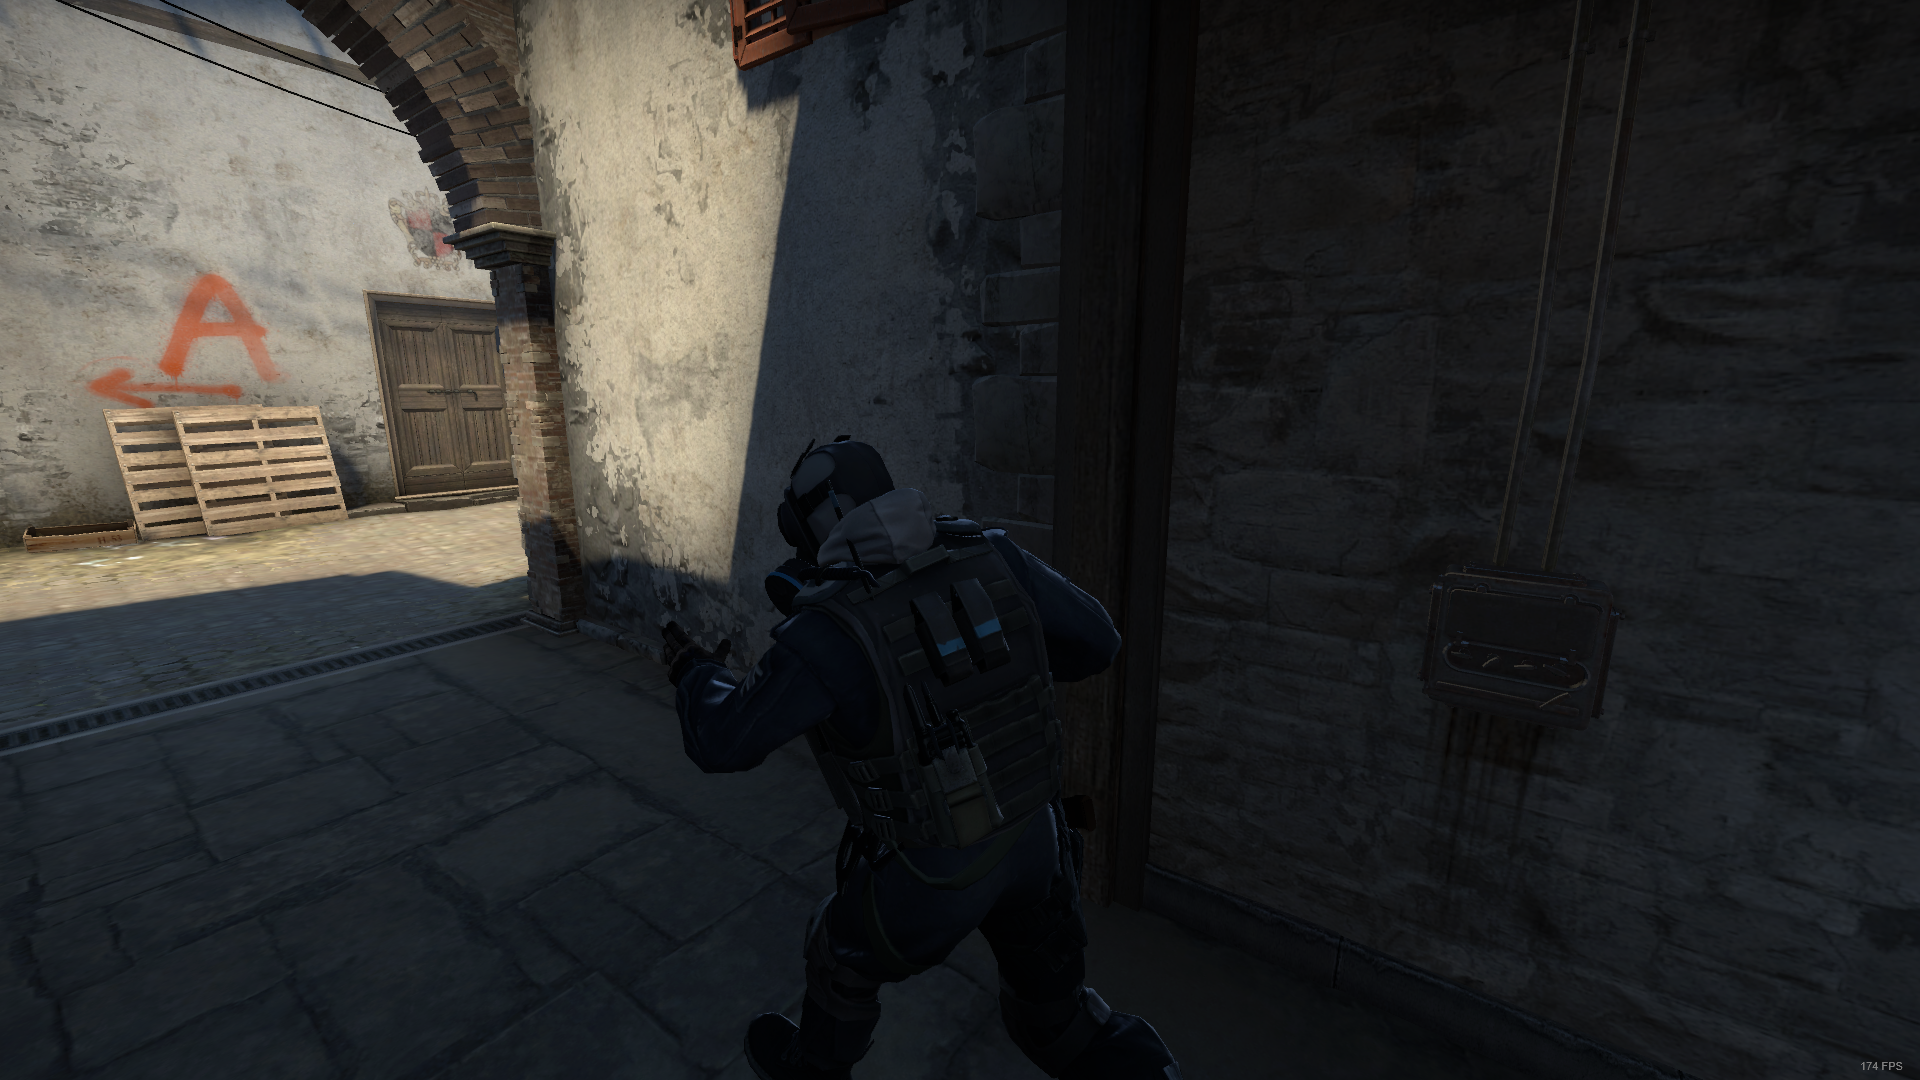ct: (657, 435, 1184, 1080)
